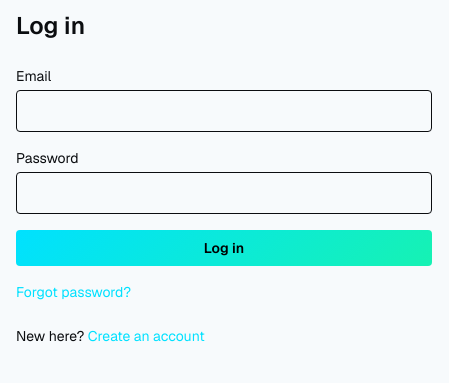
Test case: LoginPage › validates short password
Type "test@example.com" into the field named "email" at [224, 111], box [16,90,432,132]
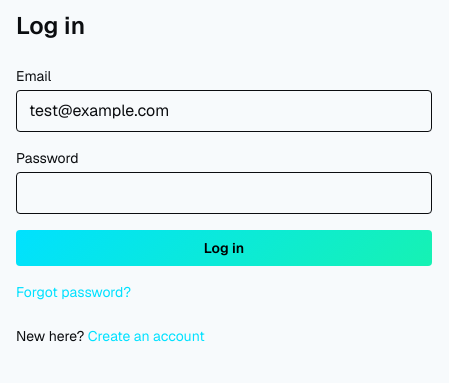
Type "123" into the password field named "password" at [224, 193], box [16,172,432,214]
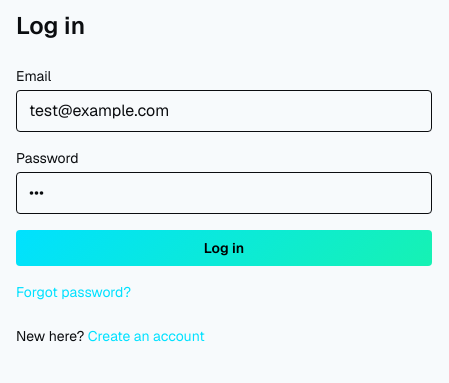
Click the button "Log in" at [224, 248], box [16,230,432,266]
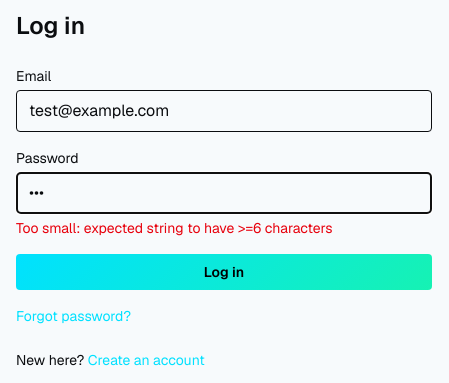
Expected: the text "Too small: expected string to have >=6 characters" is shown, [16,219,332,237]
